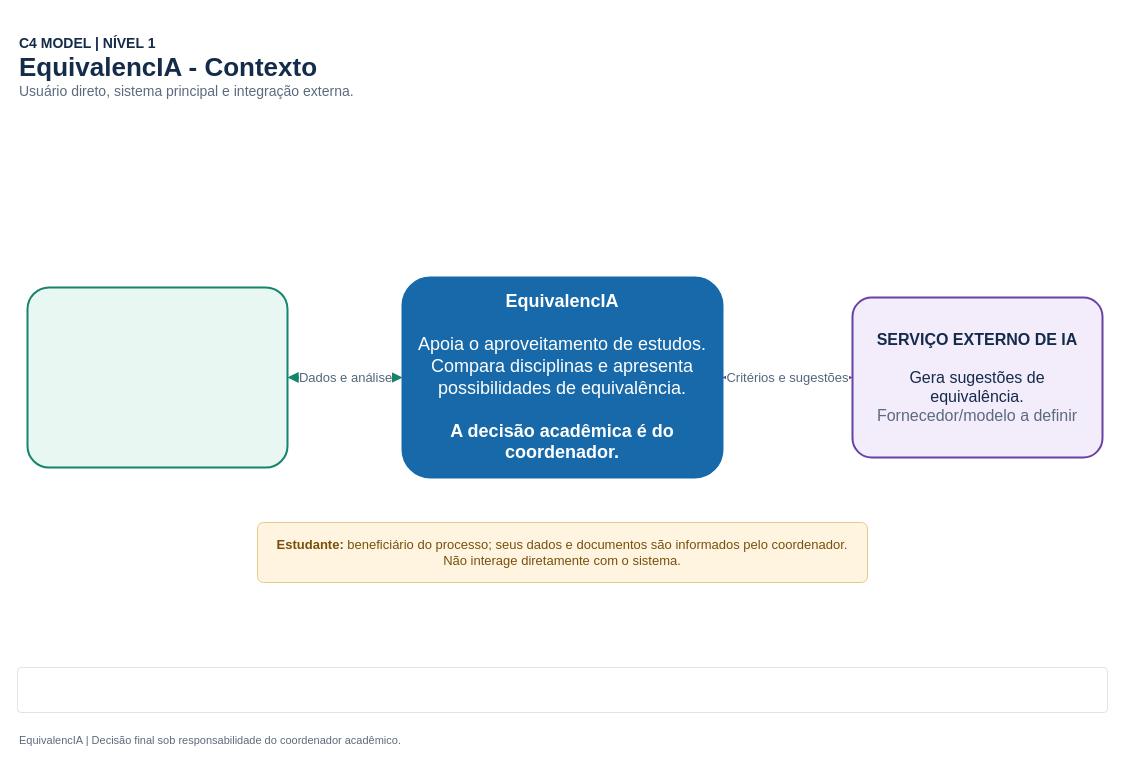
Image size: 1125x764. Some labels were removed from this diagram. Here are the shapes that lost their labels. From the top down, the centre of each, then its label:
At (157,377): "COORDENADOR Pessoa Informa dados e documentos; revisa e valida os resultados.".
At (562,689): "LEGENDA ■ Pessoa ■ Sistema em foco ■ Sistema externo ↔ Relação".
